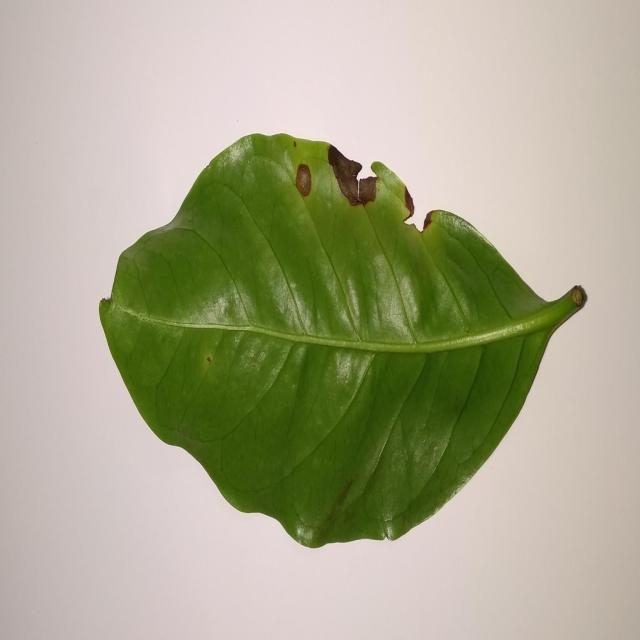Enfermedad-Antracnosis: (96, 134, 588, 552)
